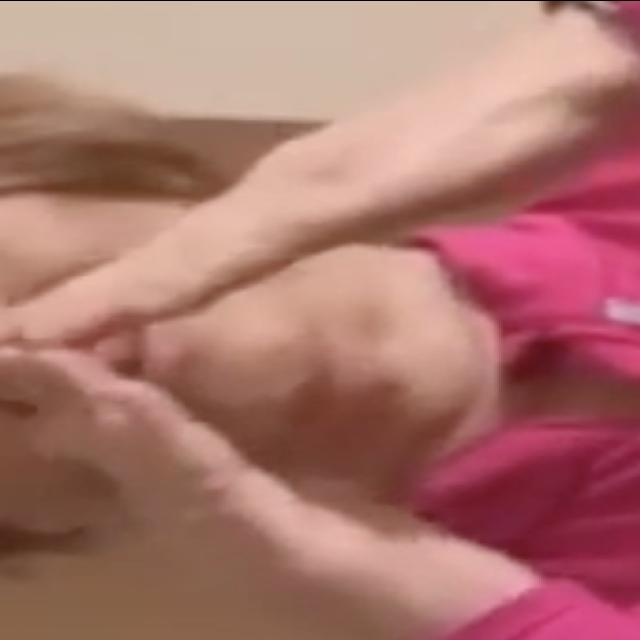casa: (7, 48, 581, 620)
